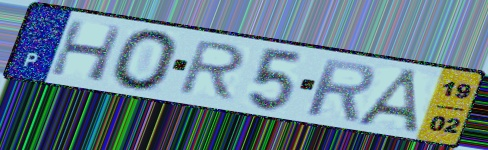5: (244, 46, 305, 113)
A: (352, 66, 424, 137)
H: (46, 17, 127, 84)
O: (108, 28, 182, 93)
R: (304, 55, 378, 124), (173, 38, 250, 103)
